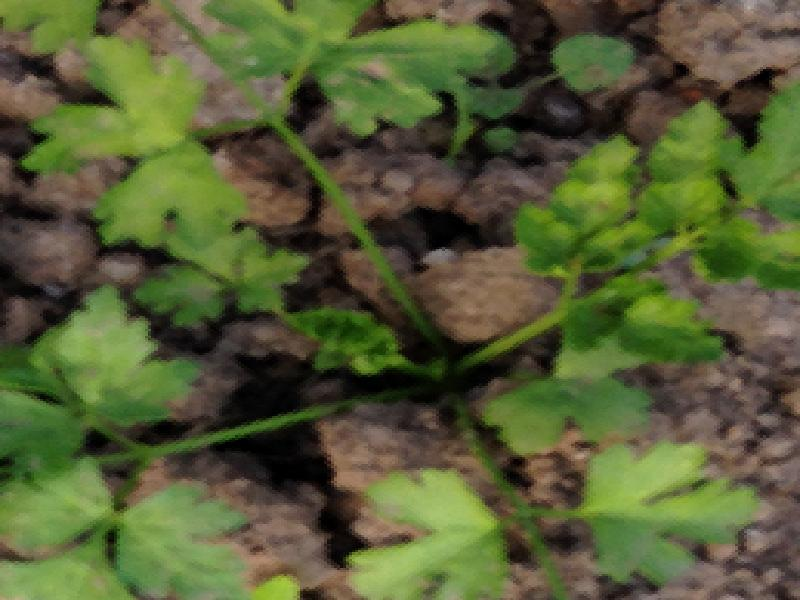radish: (0, 0, 800, 583)
